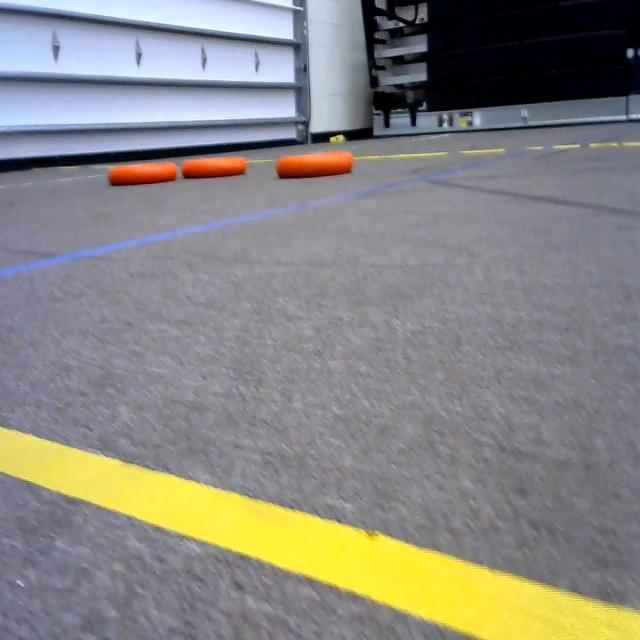note: (271, 143, 363, 180), (105, 150, 178, 192), (180, 150, 255, 180)
